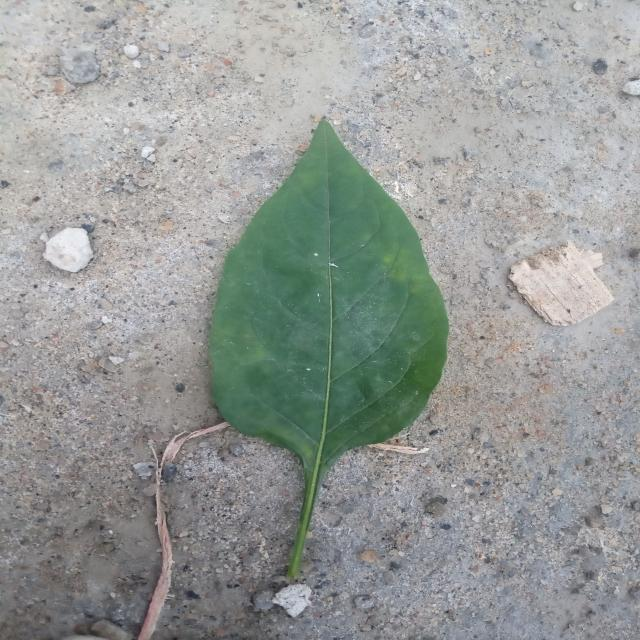ganike: (210, 121, 448, 579)
